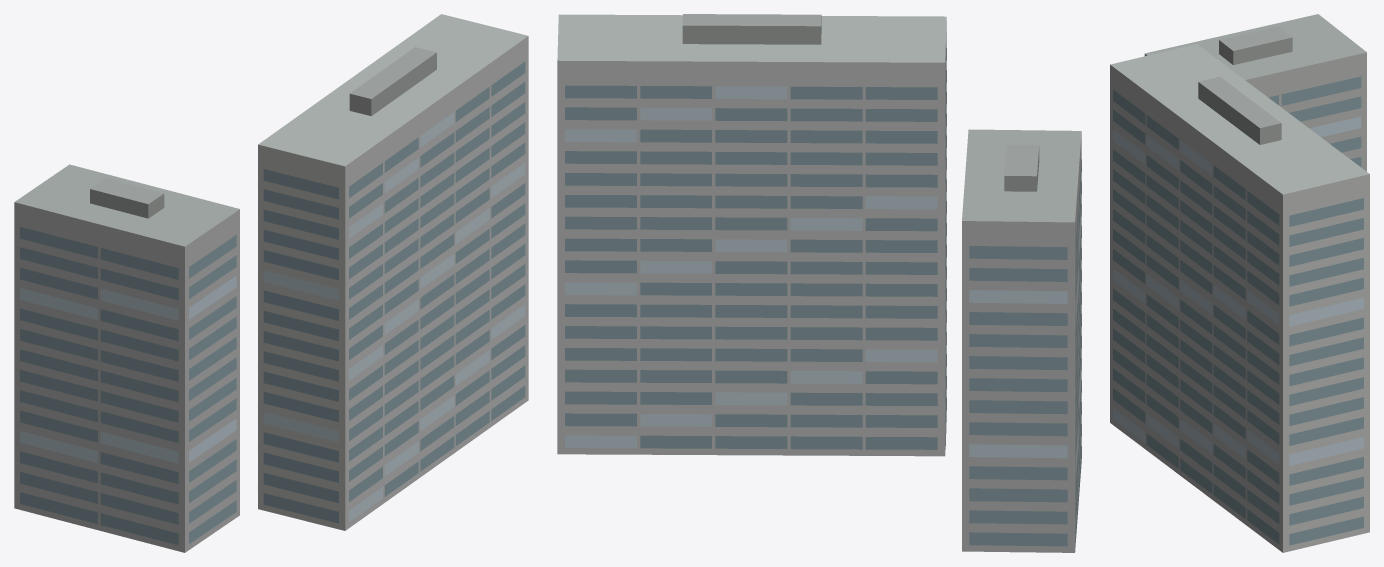
Rendered from apt-a13981402.glb.
3 views of the same model, side by side, from view 1: azimuth 30°, elevation 25°; view 2: azimuth 150°, elevation 25°; view 3: azimuth 270°, elevation 25° (orthographic). The views are drawn at different scales.
Visible parts, largest first — view 1: apt-a13981402; view 2: apt-a13981402; view 3: apt-a13981402.
Part boxes in pixels (x1,y1,x2,y2): apt-a13981402: [14, 14, 528, 552]; apt-a13981402: [557, 14, 1081, 552]; apt-a13981402: [1110, 14, 1369, 552].
Bounding box in the file's own units: 68.03 × 50 × 31.38.
